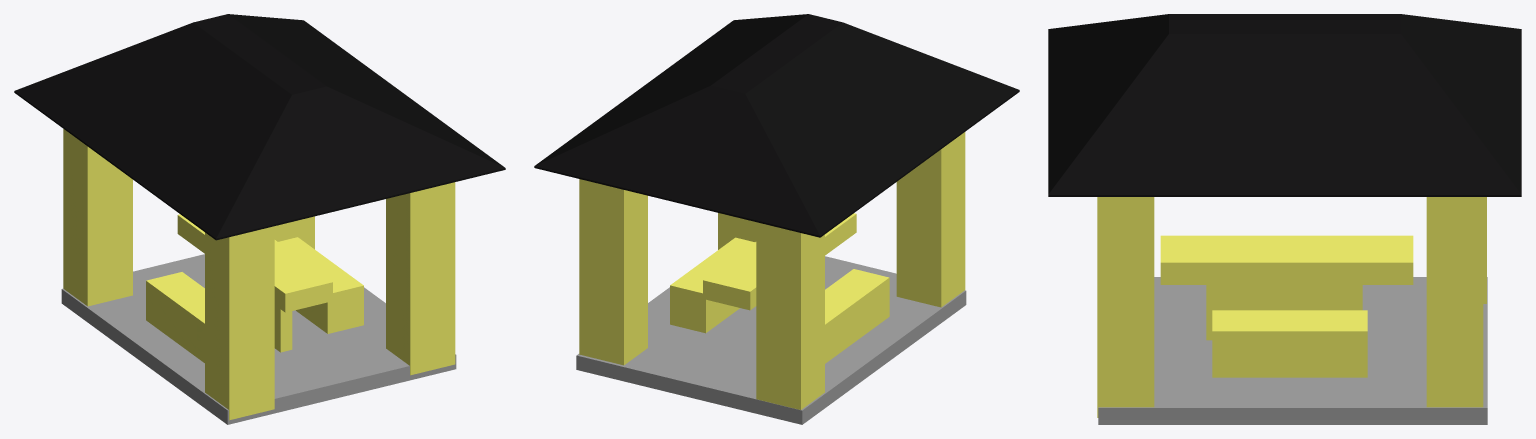
File: Bsed_Shed_Near_Banggar_FIN.glb
3 renders of one model, left to right at view 1: azimuth 30°, elevation 25°; view 2: azimuth 150°, elevation 25°; view 3: azimuth 270°, elevation 25°, orthographic. The views are drawn at different scales.
Visible parts, largest first — view 1: Cube.002, Cube, Cube.005, Cube.003, Cube.006, Cube.007, Cube.001, Cube.008, Cube.004, Cube.009; view 2: Cube.002, Cube, Cube.006, Cube.004, Cube.005, Cube.007, Cube.008, Cube.001, Cube.003; view 3: Cube.002, Cube, Cube.001, Cube.003, Cube.004, Cube.008, Cube.009, Cube.007.
Part boxes in pixels (x1,y1,x2,y2): Cube.002: (14,14,505,240); Cube: (61,254,456,424); Cube.005: (205,226,274,420); Cube.003: (386,182,455,375); Cube.006: (63,129,132,306); Cube.007: (146,272,204,362); Cube.001: (177,214,332,312); Cube.008: (278,237,363,333); Cube.004: (274,216,314,249); Cube.009: (274,305,292,352); Cube.002: (534,14,1019,237); Cube: (576,256,966,424); Cube.006: (756,222,824,409); Cube.004: (579,179,647,365); Cube.005: (896,132,965,307); Cube.007: (825,269,889,363); Cube.008: (670,237,754,333); Cube.001: (703,213,856,310); Cube.003: (718,213,756,249); Cube.002: (1048,14,1521,196); Cube: (1098,277,1487,424); Cube.001: (1160,235,1413,284); Cube.003: (1097,197,1154,417); Cube.004: (1426,197,1483,407); Cube.008: (1212,310,1367,377); Cube.009: (1206,285,1318,340); Cube.007: (1318,285,1362,310).
Size of what is drawn, in the model's own units: 5.73 by 5.38 by 6.91.
